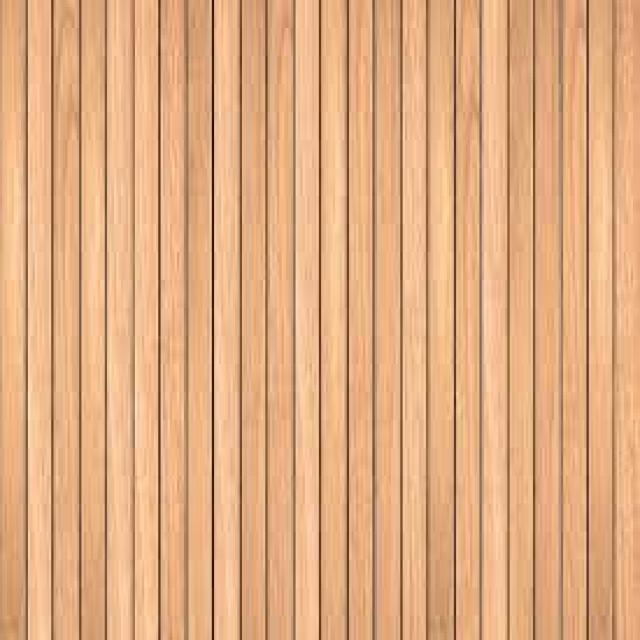perfect-wooden-plate: (226, 0, 266, 638), (106, 0, 134, 638), (159, 0, 187, 638), (266, 0, 294, 638), (53, 0, 80, 638), (320, 0, 347, 638), (427, 2, 454, 638), (534, 2, 561, 638), (587, 0, 613, 639), (0, 0, 26, 638), (27, 0, 53, 638), (187, 0, 213, 638), (214, 0, 240, 638), (374, 0, 400, 638), (481, 2, 507, 638), (80, 0, 105, 638), (134, 2, 159, 638), (455, 2, 480, 638), (509, 2, 534, 638), (295, 0, 319, 638), (349, 0, 373, 638), (403, 0, 426, 638), (563, 0, 586, 638)
